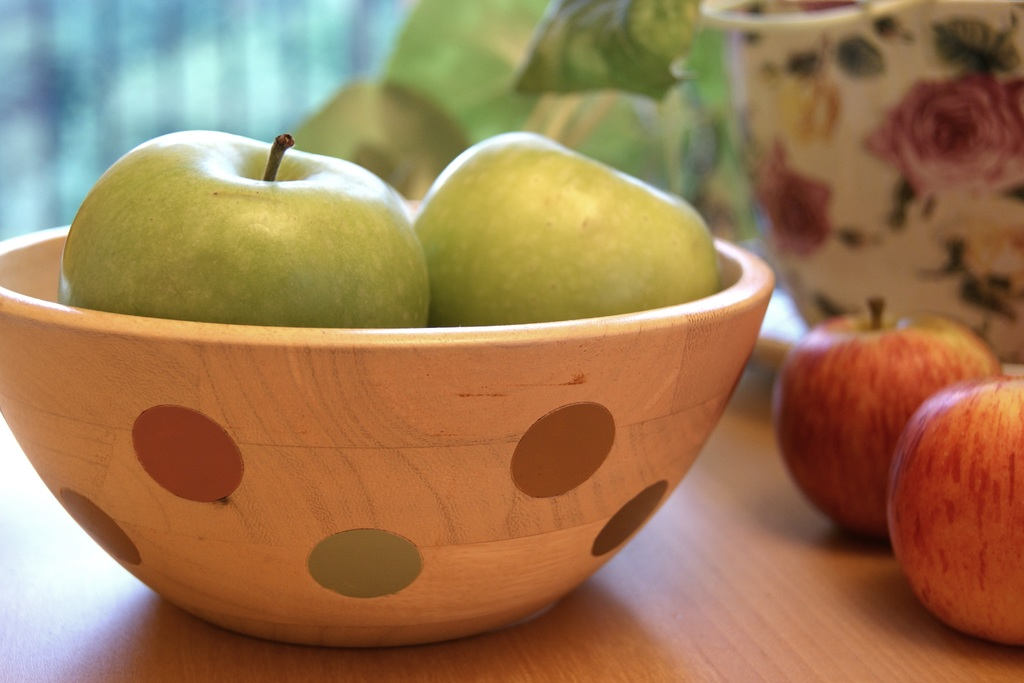Apple: (61, 124, 433, 347), (408, 130, 717, 325), (771, 290, 1004, 547), (886, 374, 1023, 648)
